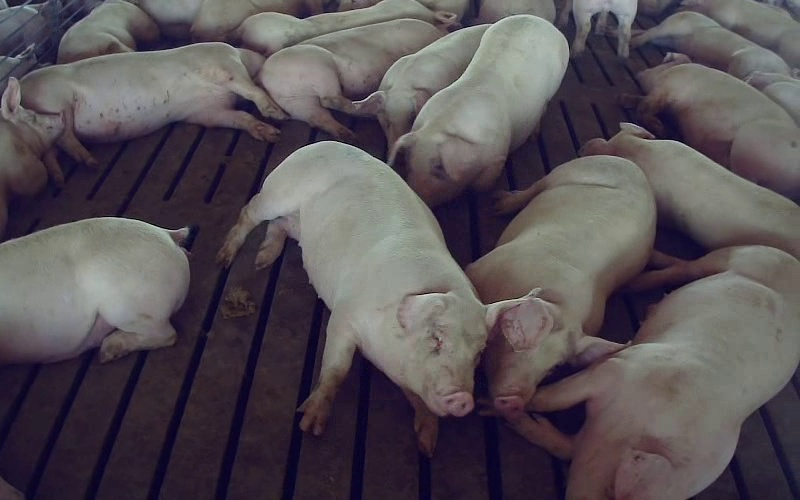pig: (217, 142, 536, 455), (510, 246, 799, 499), (466, 156, 656, 417), (389, 15, 568, 205), (20, 42, 285, 164), (582, 123, 799, 258), (0, 218, 189, 362), (623, 53, 799, 201), (258, 19, 460, 138), (352, 25, 488, 150), (237, 0, 456, 56), (631, 11, 789, 78)
